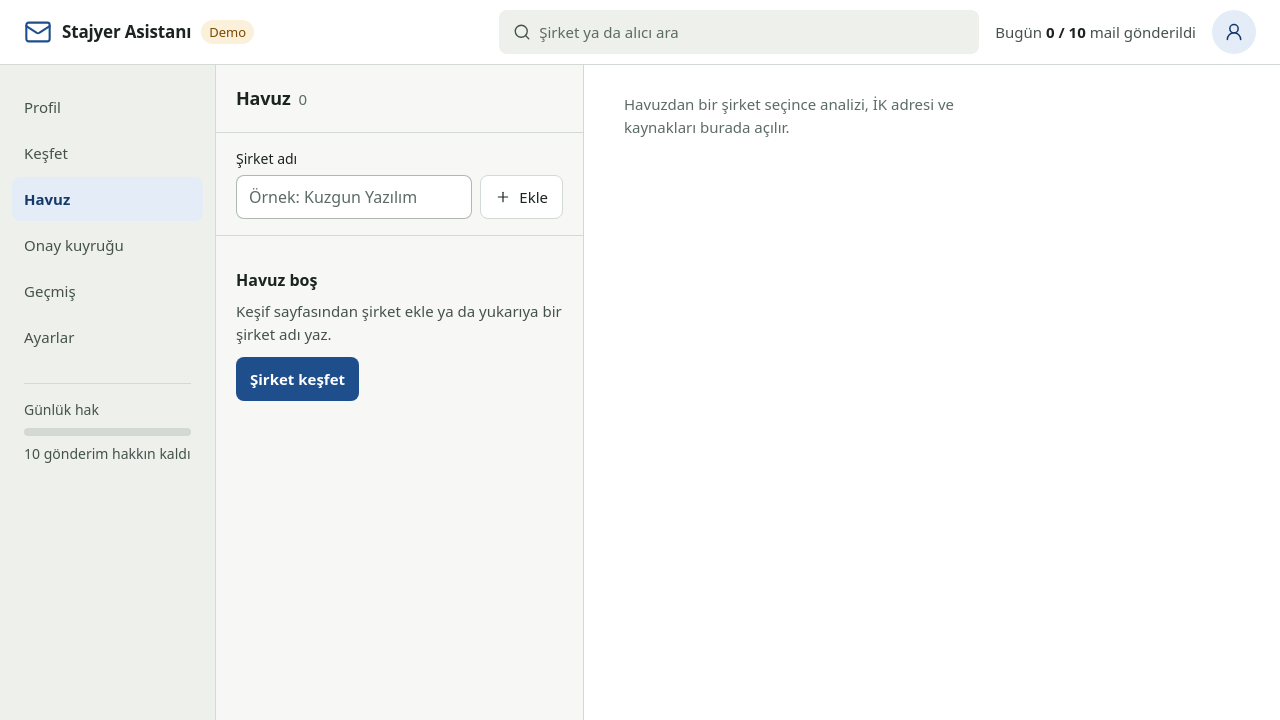
Scenario: App (demo modu) › havuza elle şirket ekler ve tekrarını reddeder
In the field labelled "Şirket adı": (354, 197) left=236, top=175, right=472, bottom=219, type "Kuzgun Yazılım"
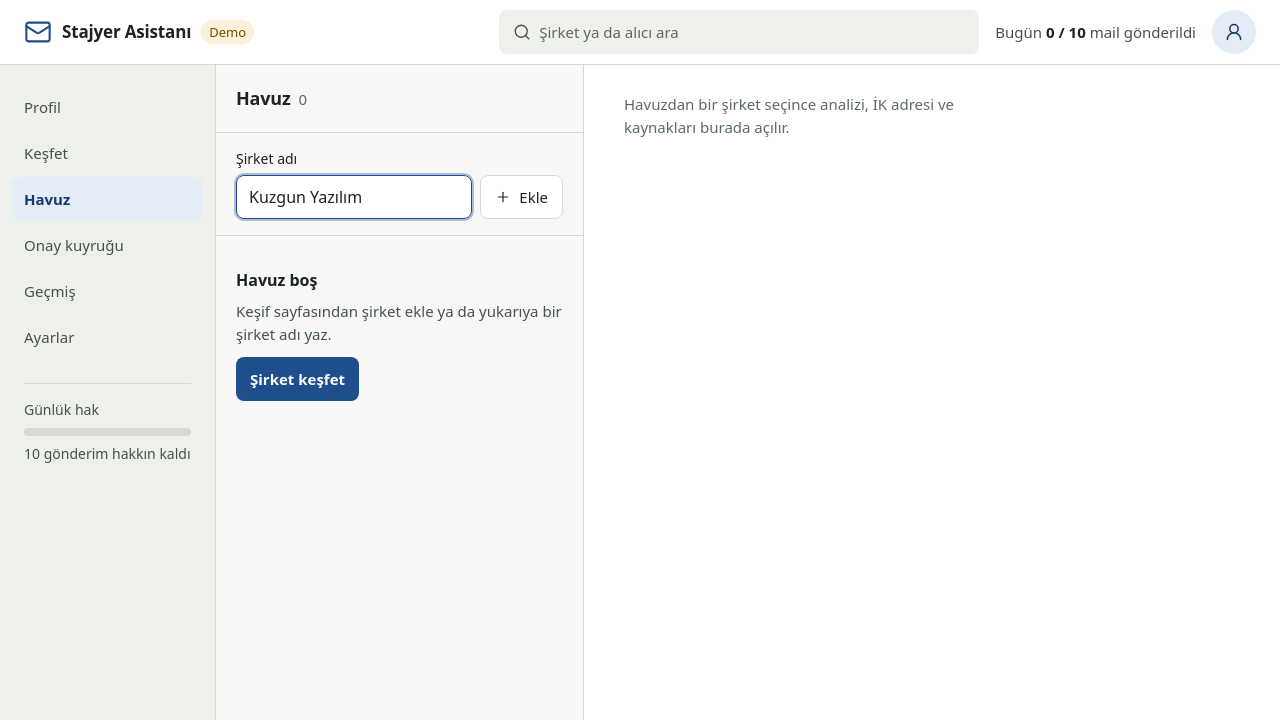
Click the button "Ekle": (522, 197) left=480, top=175, right=563, bottom=219
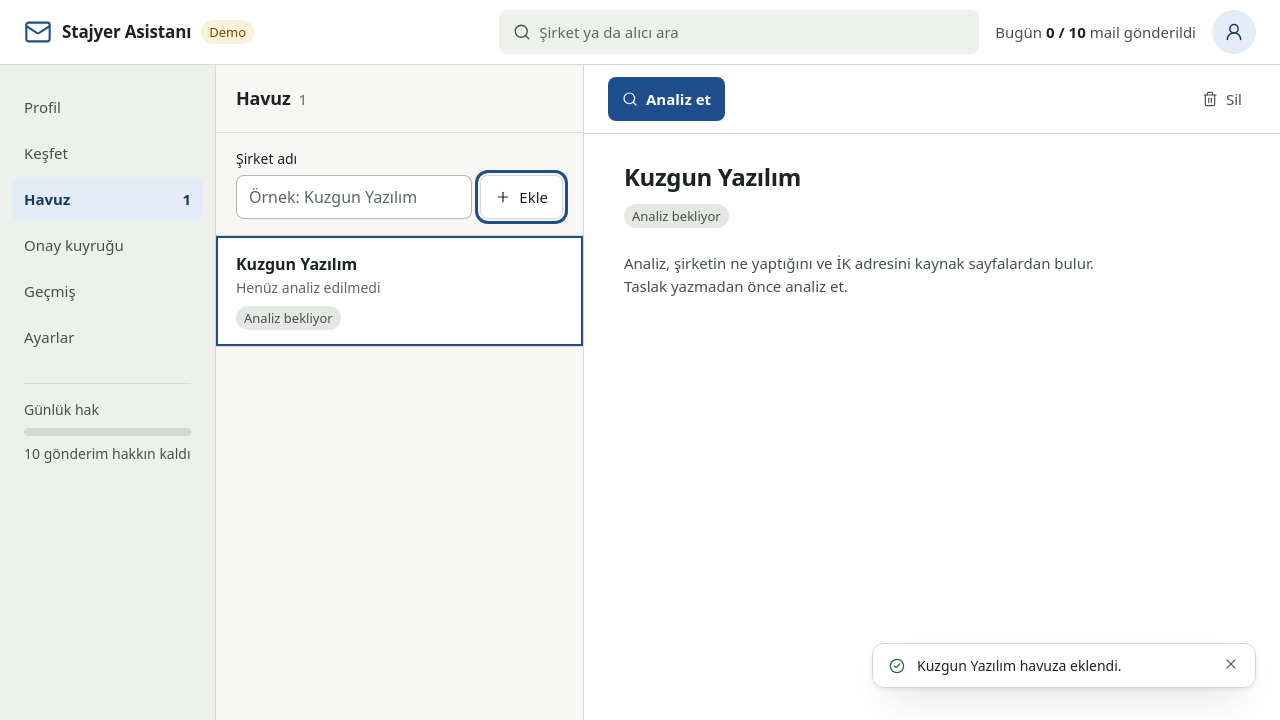
Now the heading "Kuzgun Yazılım" is shown, box left=624, top=160, right=801, bottom=193
In the field labelled "Şirket adı": (354, 197) left=236, top=175, right=472, bottom=219, type "kuzgun  yazılım"
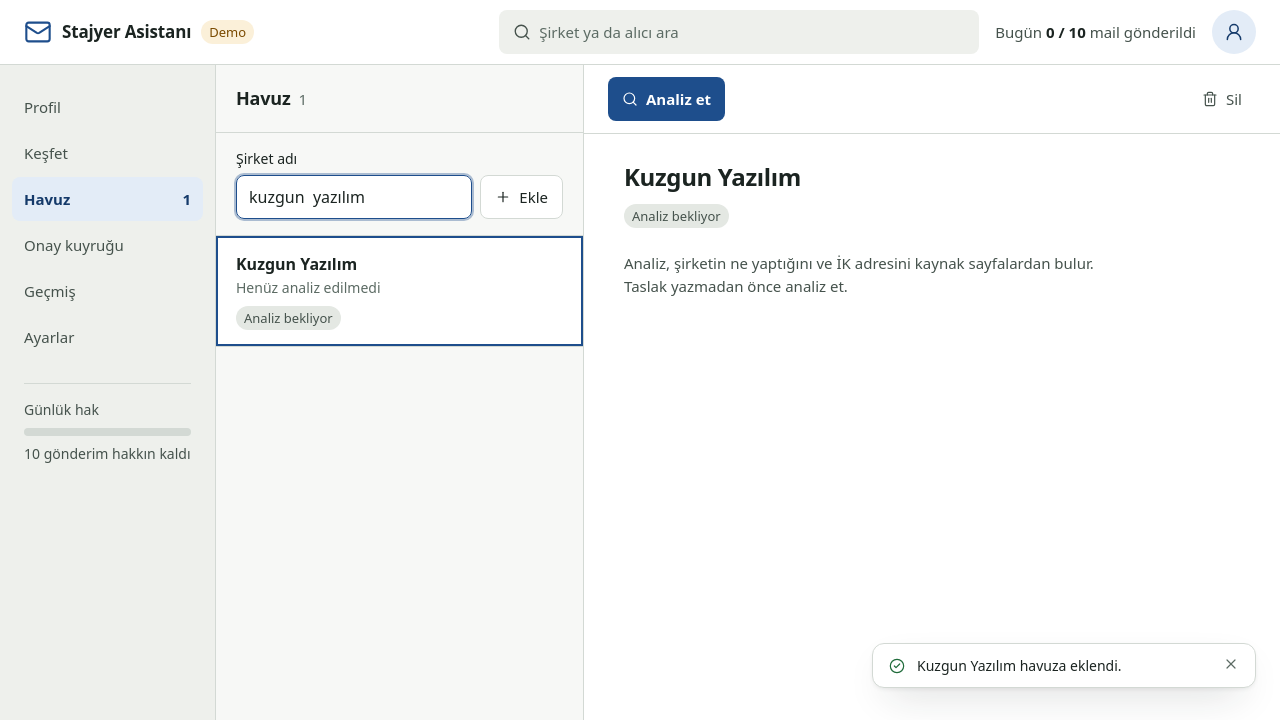
Click the button "Ekle": (522, 197) left=480, top=175, right=563, bottom=219
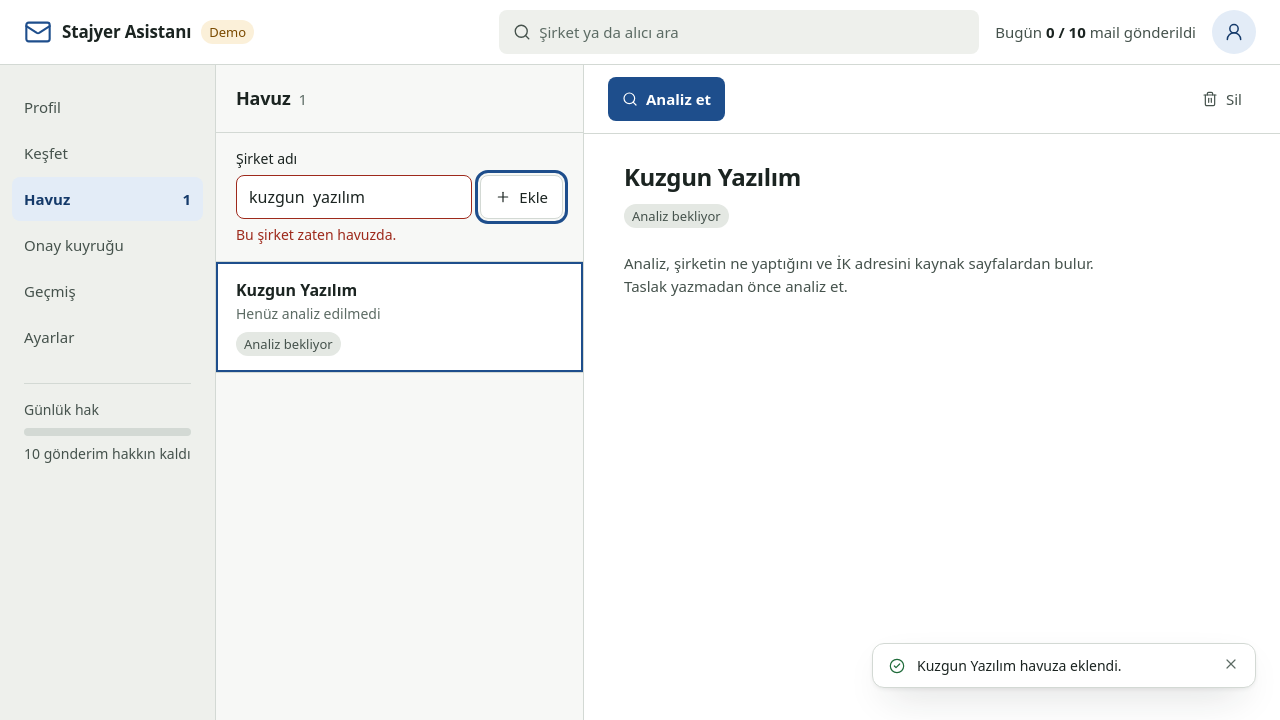
Now the text "Bu şirket zaten havuzda." is shown, box left=236, top=225, right=396, bottom=244
